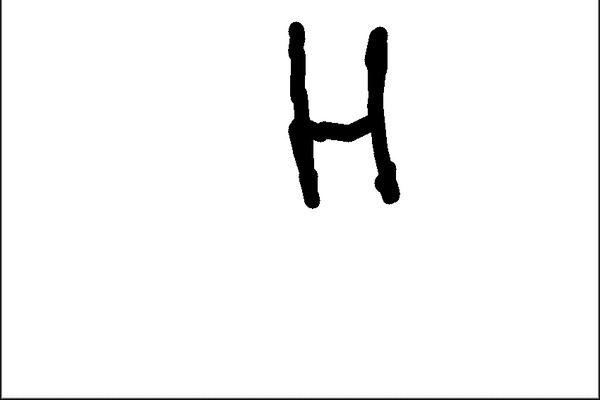H: (279, 18, 404, 211)
